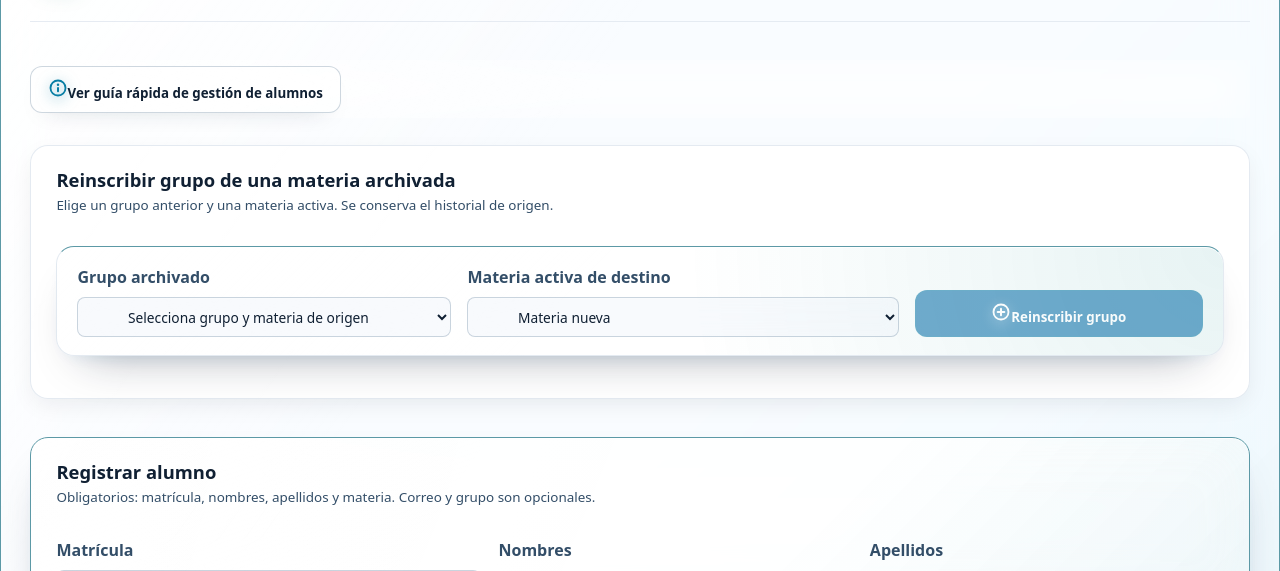
Test: SeccionAlumnos: reinscripción por grupo archivado › envía el grupo seleccionado a la materia activa y actualiza la vista
Select "G1 · Materia anterior · 2 alumnos" in the dropdown labelled "Grupo archivado". click: coordinates (264, 317)
box: [77,297,451,337]
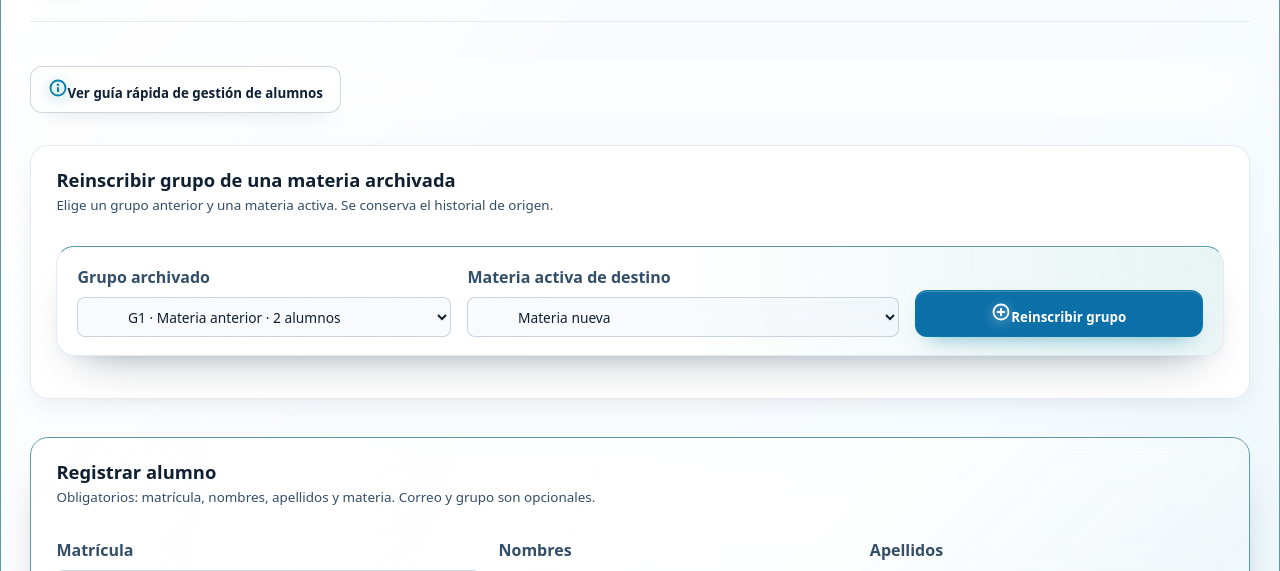
Select "Materia nueva" in the dropdown labelled "Materia activa de destino". click: coordinates (683, 317)
box: [467,297,899,337]
Click the button "Reinscribir grupo". click: coordinates (1059, 314)
box: [915,290,1203,337]
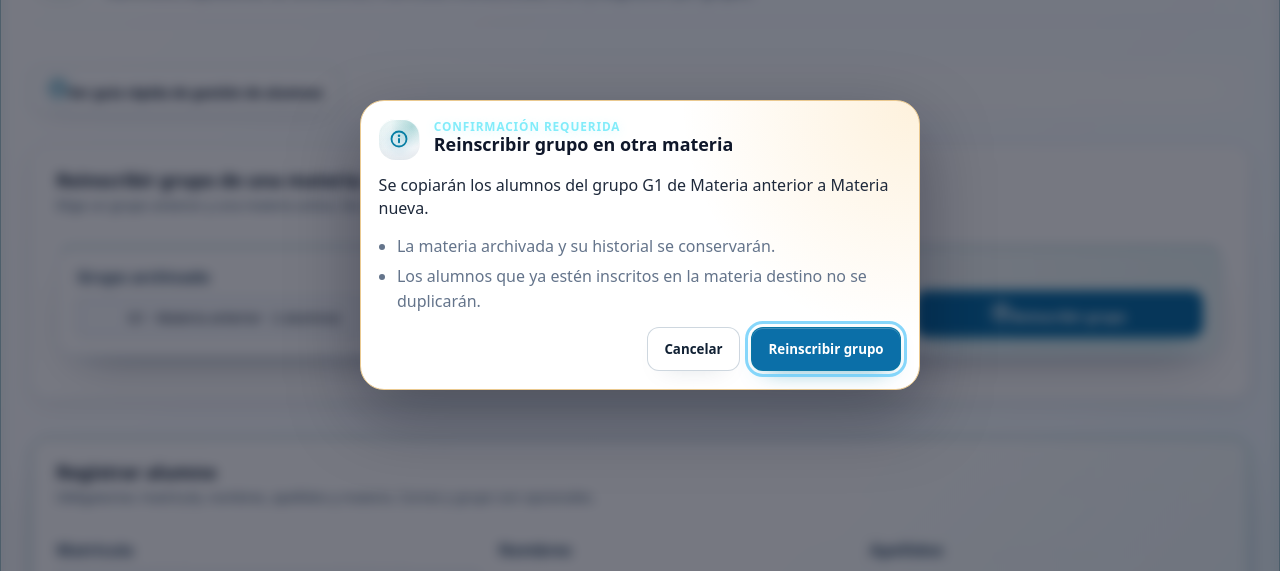
Click the button "Reinscribir grupo". click: coordinates (826, 349)
box: [751,327,901,371]
(page scrolled)
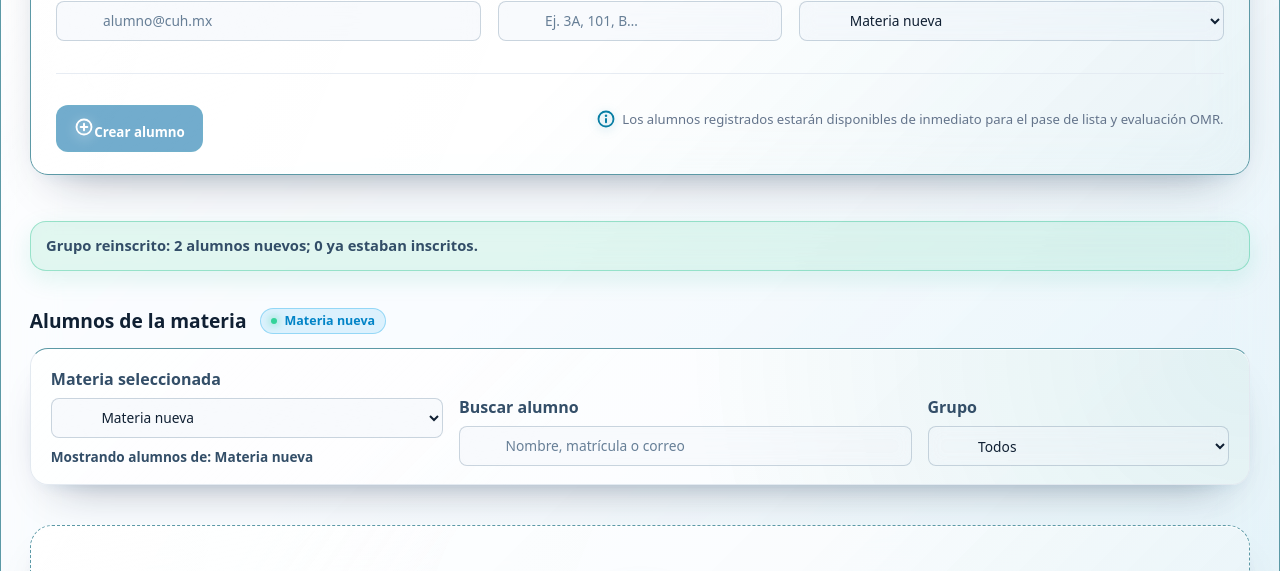
Expected: the message shows "2 alumnos nuevos", [46,235,478,255]
